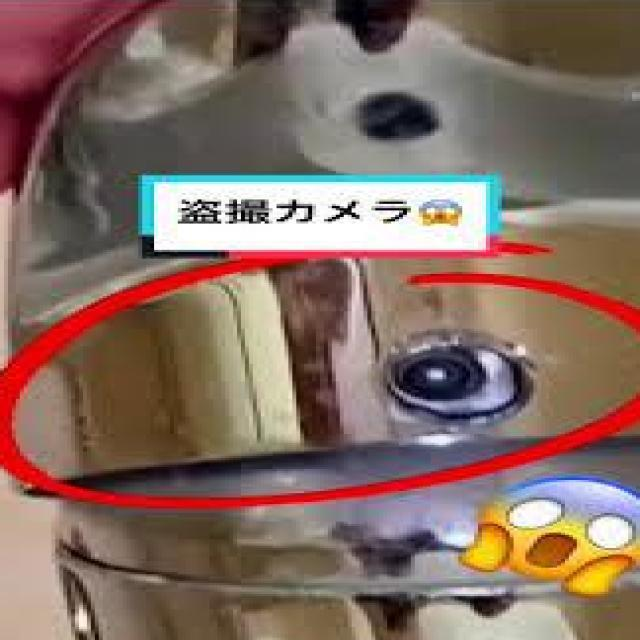hidden camera: (387, 327, 502, 420)
